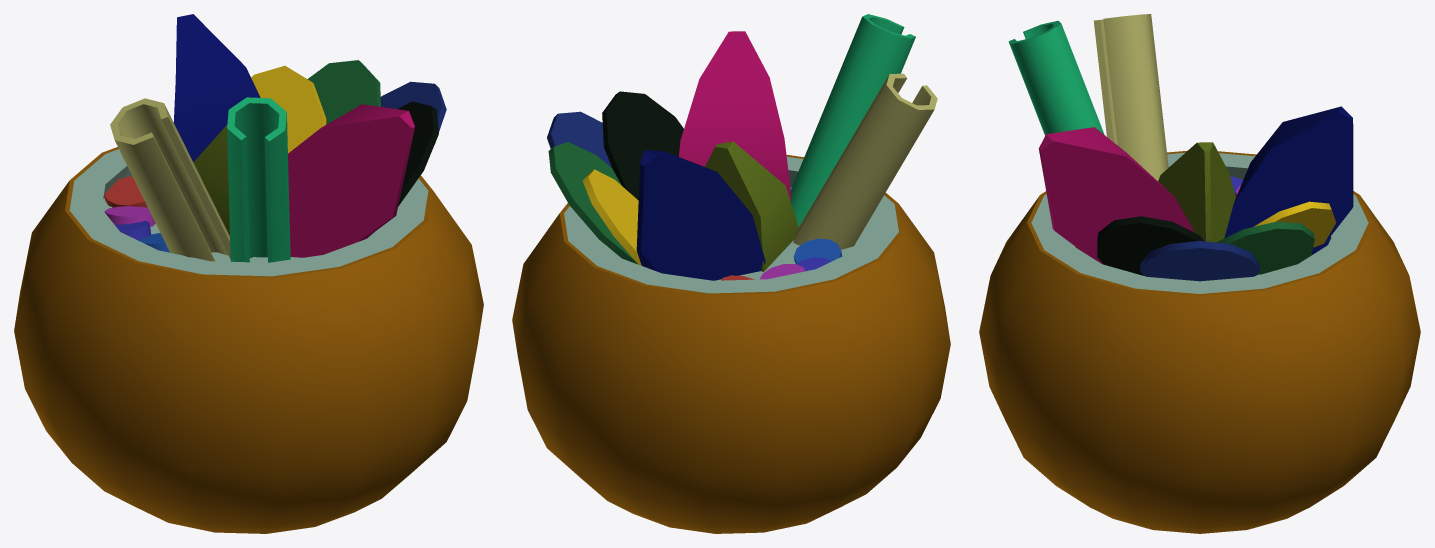
Rendered from Baesukkkaebi.fbx.
3 renders of one model, left to right at view 1: azimuth 30°, elevation 25°; view 2: azimuth 150°, elevation 25°; view 3: azimuth 270°, elevation 25°, orthographic. The views are drawn at different scales.
Visible parts, largest first — view 1: Baesukkkaebi; view 2: Baesukkkaebi; view 3: Baesukkkaebi.
Part boxes in pixels (x1=…): Baesukkkaebi: x1=14, y1=14, x2=483, y2=533; Baesukkkaebi: x1=512, y1=14, x2=950, y2=533; Baesukkkaebi: x1=979, y1=14, x2=1420, y2=533.
Bounding box in the file's own units: 46.12 × 49.61 × 46.12.
